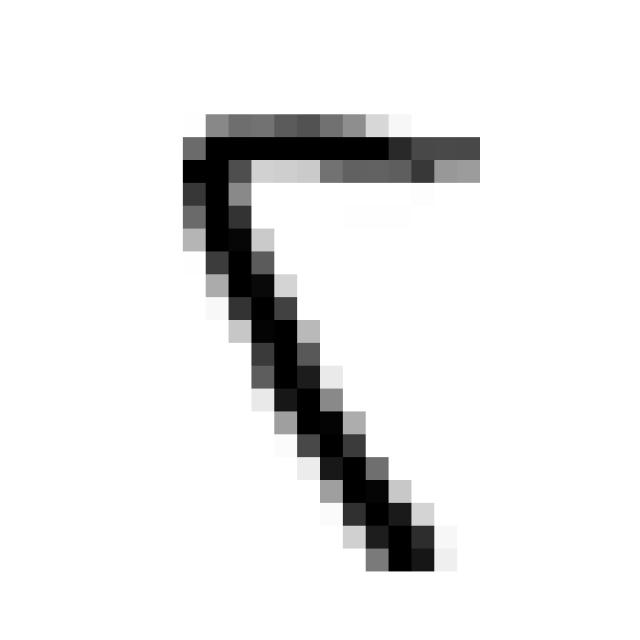2 -two-: (160, 94, 502, 596)
